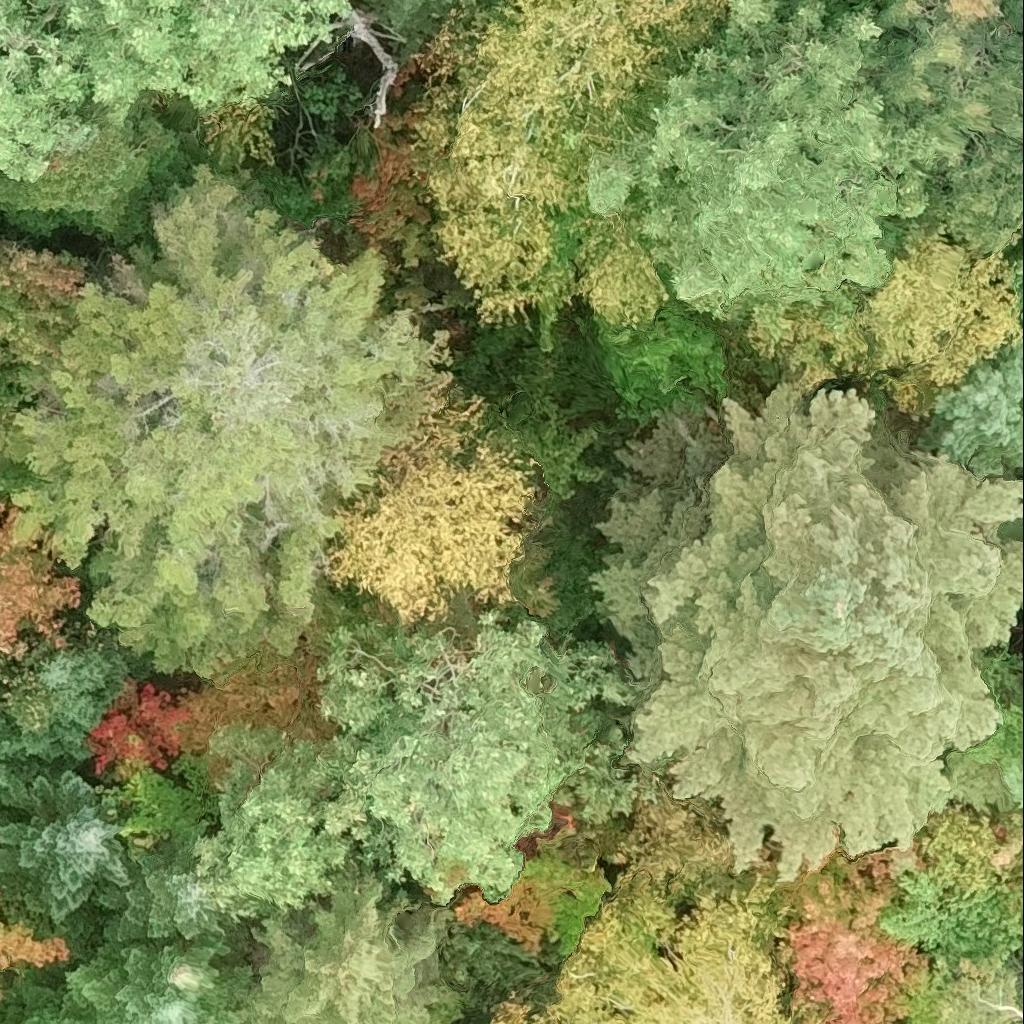crown: (6, 161, 450, 679), (589, 379, 1023, 882), (582, 0, 937, 320), (315, 614, 645, 901), (412, 91, 670, 346), (325, 357, 542, 627), (748, 232, 1018, 421), (494, 871, 820, 1023), (429, 0, 730, 153), (44, 0, 351, 123), (235, 863, 466, 1023), (183, 721, 356, 920), (0, 94, 197, 243), (0, 770, 134, 927), (599, 296, 743, 436), (0, 0, 97, 183), (59, 943, 251, 1023), (0, 237, 89, 401), (933, 317, 1023, 478), (106, 846, 228, 956), (883, 877, 1023, 971), (785, 930, 925, 1023), (0, 498, 79, 660), (21, 652, 125, 760), (927, 804, 999, 888), (358, 0, 455, 62), (0, 970, 89, 1023), (0, 712, 42, 820), (970, 714, 1023, 795), (992, 997, 1023, 1023), (0, 631, 14, 659), (479, 0, 489, 1)
